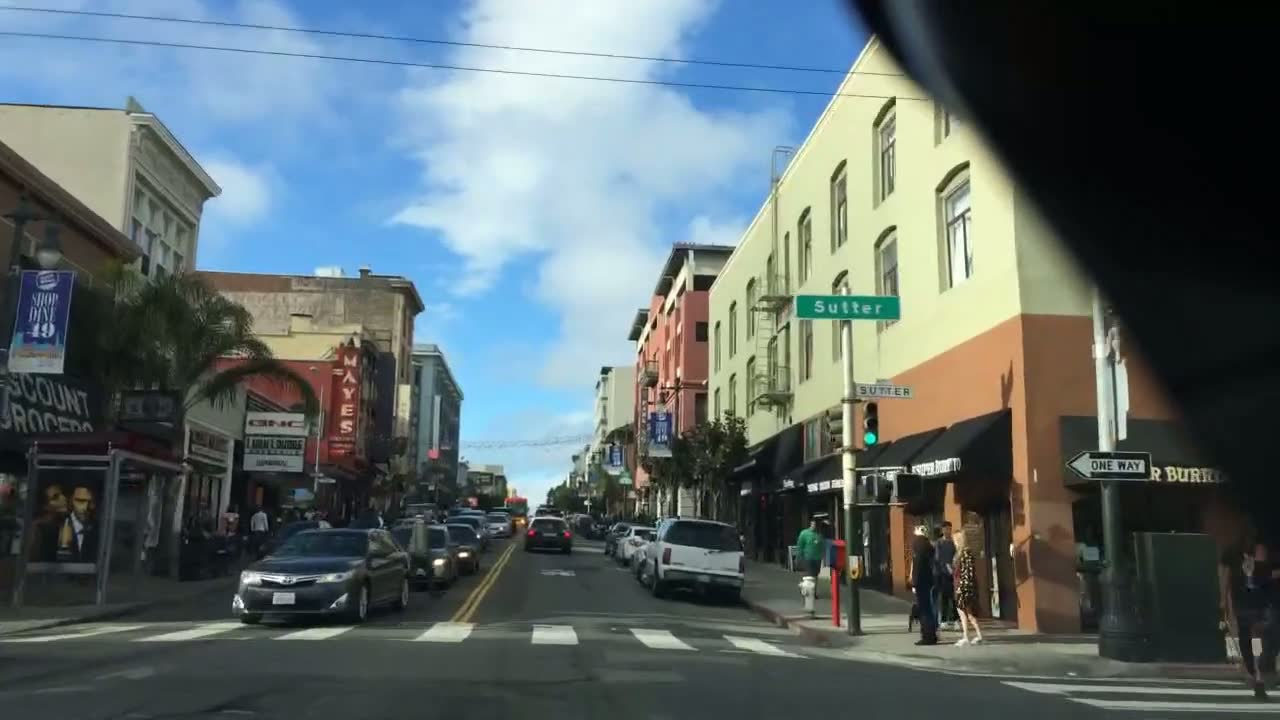car: (231, 526, 412, 623), (636, 514, 745, 604), (390, 523, 459, 590), (444, 522, 483, 575), (523, 515, 572, 553), (612, 525, 657, 566), (486, 513, 512, 538)
pedestrian: (1217, 518, 1280, 700), (908, 518, 941, 645), (949, 528, 983, 648), (405, 508, 446, 599), (933, 520, 960, 631), (795, 517, 827, 599)
